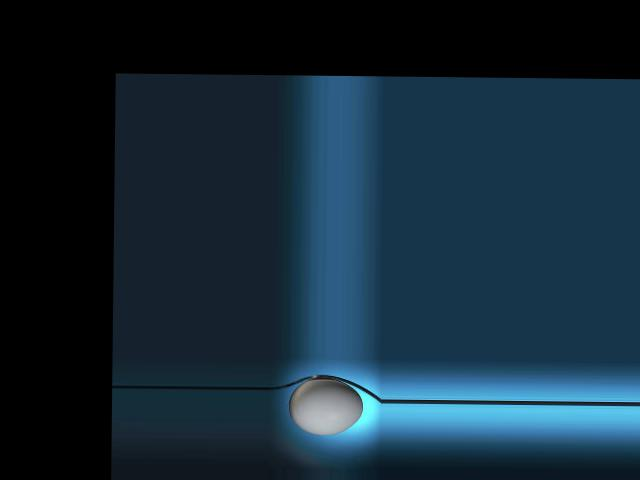egg: (288, 377, 362, 434)
